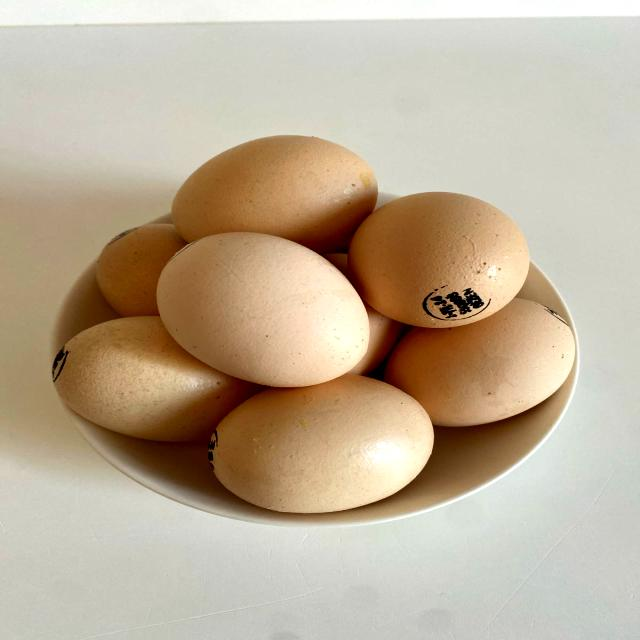egg: (149, 227, 383, 391), (204, 366, 429, 524), (336, 185, 577, 332)
